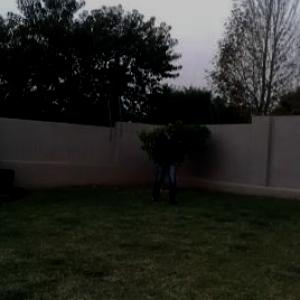follow: (152, 114, 180, 208)
